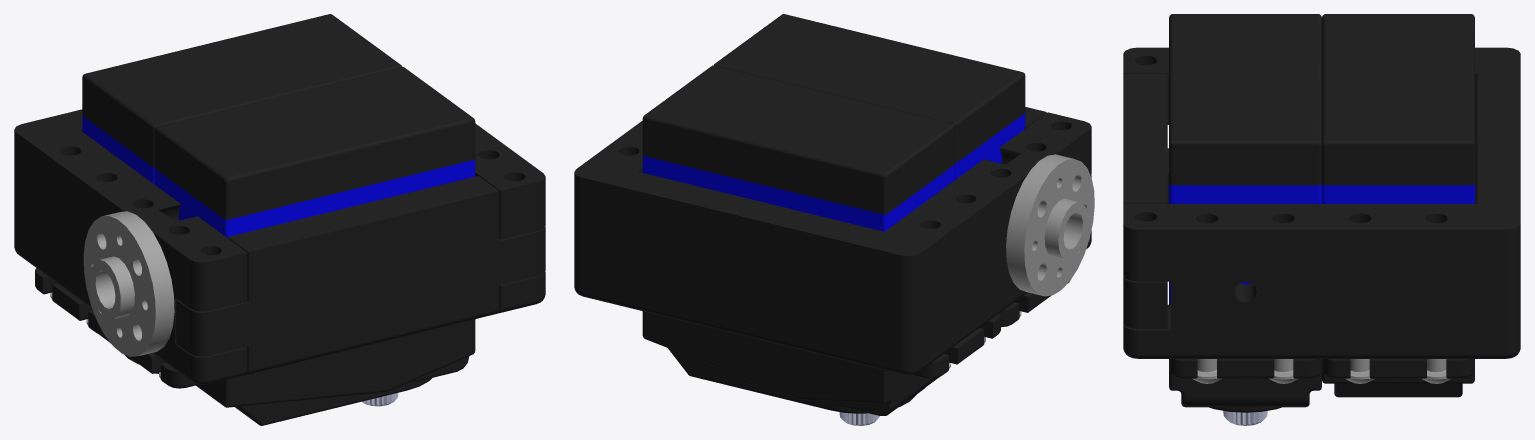
File: lb_shoulder.obj
3 renders of one model, left to right at view 1: azimuth 30°, elevation 25°; view 2: azimuth 150°, elevation 25°; view 3: azimuth 270°, elevation 25°, orthographic. The views are drawn at different scales.
Visible parts, largest first — view 1: Body4, Body5, Body2, Body2:1, Body4:1, Body1, Body1:1, Body4:2, Body1:2; view 2: Body5, Body2:1, Body2, Body4:2, Body1, Body1:2, Body1:1, Body4:1; view 3: Body5, Body2, Body2:1, Body4, Body4:1, Body4:2, Body1:1, Body1:2, Body3, Body1:7, Body1:8, Body1:9 (+1 smaller).
Part boxes in pixels (x1,y1,x2,y2): Body4: (176, 176, 545, 374); Body5: (14, 109, 545, 384); Body2: (154, 67, 475, 219); Body2:1: (82, 14, 402, 166); Body4:1: (108, 319, 475, 425); Body1: (83, 211, 174, 356); Body1:1: (154, 159, 475, 237); Body4:2: (35, 268, 158, 373); Body1:2: (82, 115, 154, 184); Body5: (574, 112, 1091, 375); Body2:1: (642, 65, 954, 214); Body2: (713, 14, 1025, 162); Body4:2: (642, 311, 1000, 415); Body1: (1006, 154, 1094, 296); Body1:2: (642, 155, 954, 231); Body1:1: (955, 113, 1025, 179); Body4:1: (1000, 281, 1069, 327); Body5: (1123, 47, 1520, 358); Body2: (1169, 14, 1321, 185); Body2:1: (1322, 14, 1474, 185); Body4: (1123, 74, 1167, 328); Body4:1: (1169, 359, 1321, 412); Body4:2: (1322, 359, 1474, 397); Body1:1: (1169, 184, 1321, 304); Body1:2: (1322, 184, 1474, 203); Body3: (1223, 411, 1267, 425); Body1:7: (1193, 359, 1221, 383); Body1:8: (1269, 359, 1298, 383); Body1:9: (1345, 359, 1374, 383).
Size of the model in its own units: 0.0618 by 0.0445 by 0.052.
